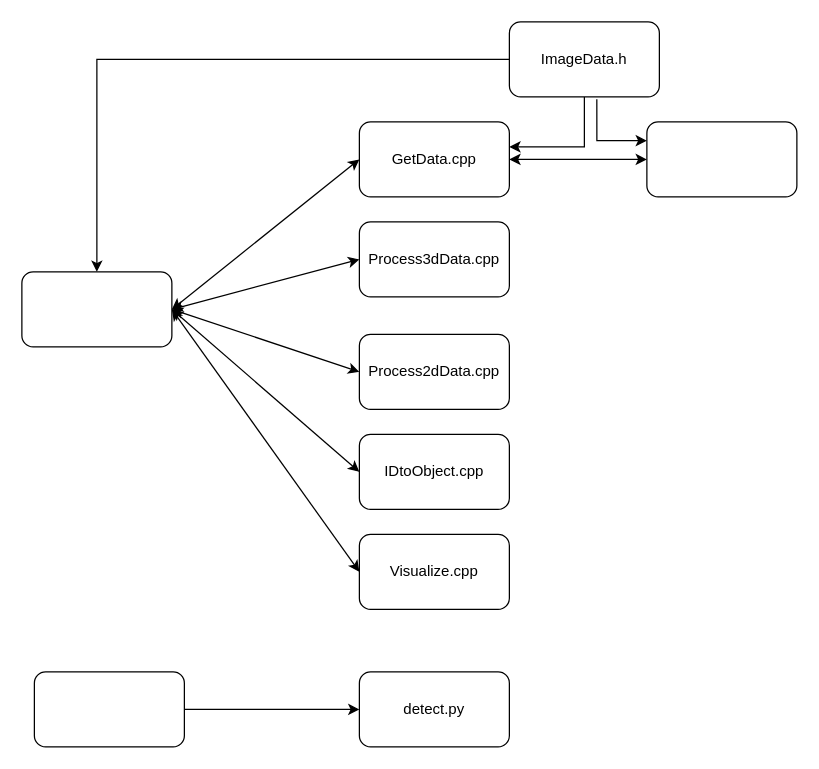
The diagram is 819 pixels wide and 769 high, and some of its shapes have lost their labels. The box of each missing label's shape, as (x1, y1, x2, y2) in pixels:
SaveData.cpp: (646, 121, 797, 197)
vision_server [main.cpp]: (21, 271, 172, 347)
yolov5_server [yolov5_server.py]: (33, 671, 184, 747)
